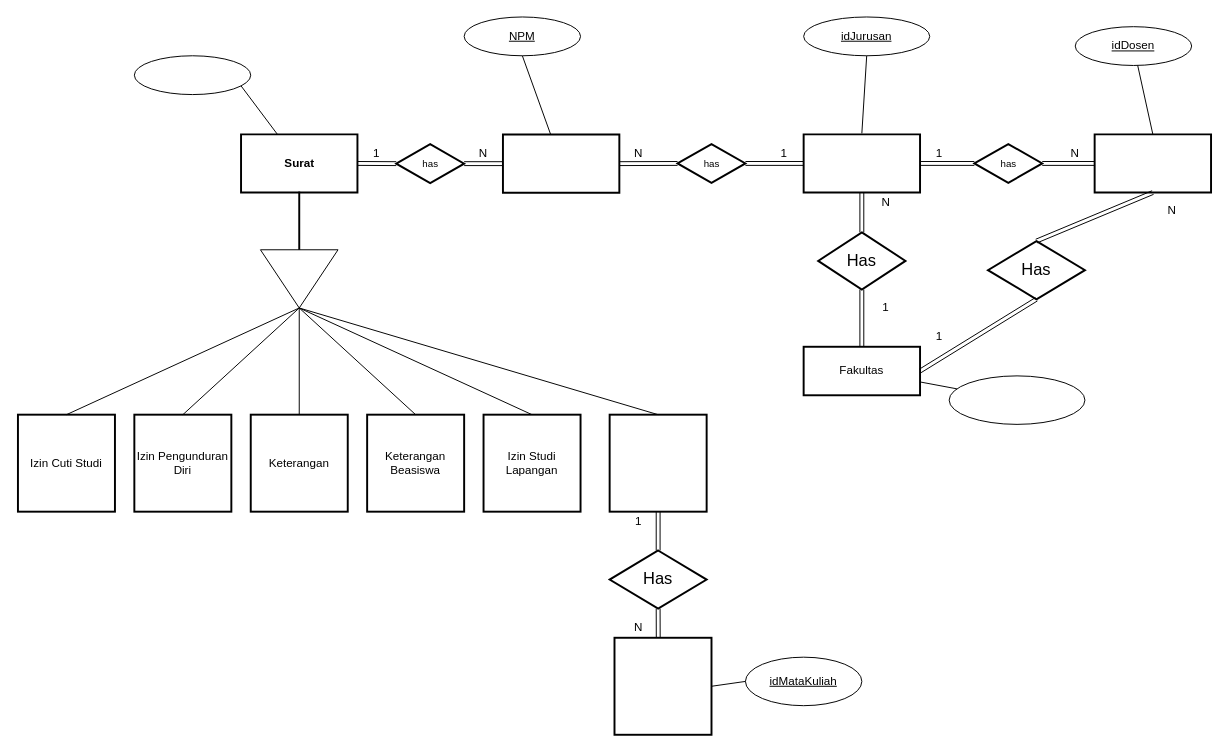
This 1228x753 diagram has some shape labels left out. Here are the shapes that lost their labels. From the top down, the centre of each, then its label:
At pixel 192 75: "idSurat".
At pixel 560 163: "Mahasiswa".
At pixel 861 163: "Jurusan".
At pixel 1152 163: "Dosen".
At pixel 298 278: "ISA".
At pixel 1016 399: "idFakultas".
At pixel 657 462: "Perwalian Yang Diwakilkan".
At pixel 662 685: "Mata Kuliah".
